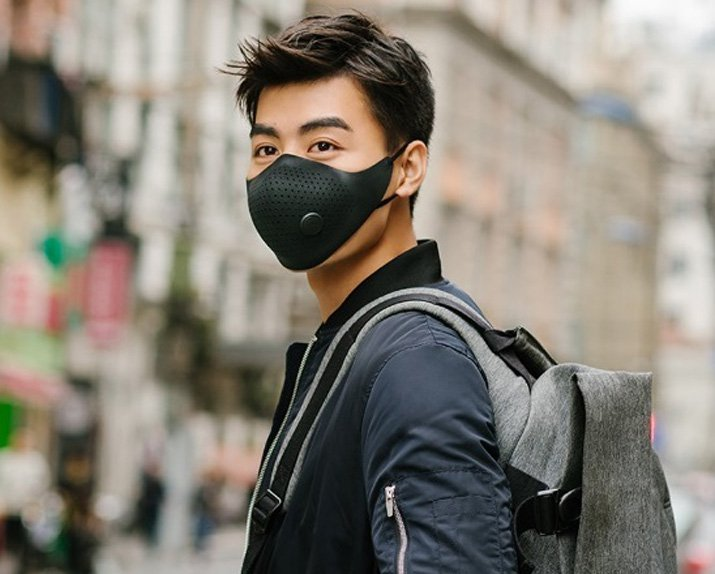mask: (210, 14, 431, 278)
